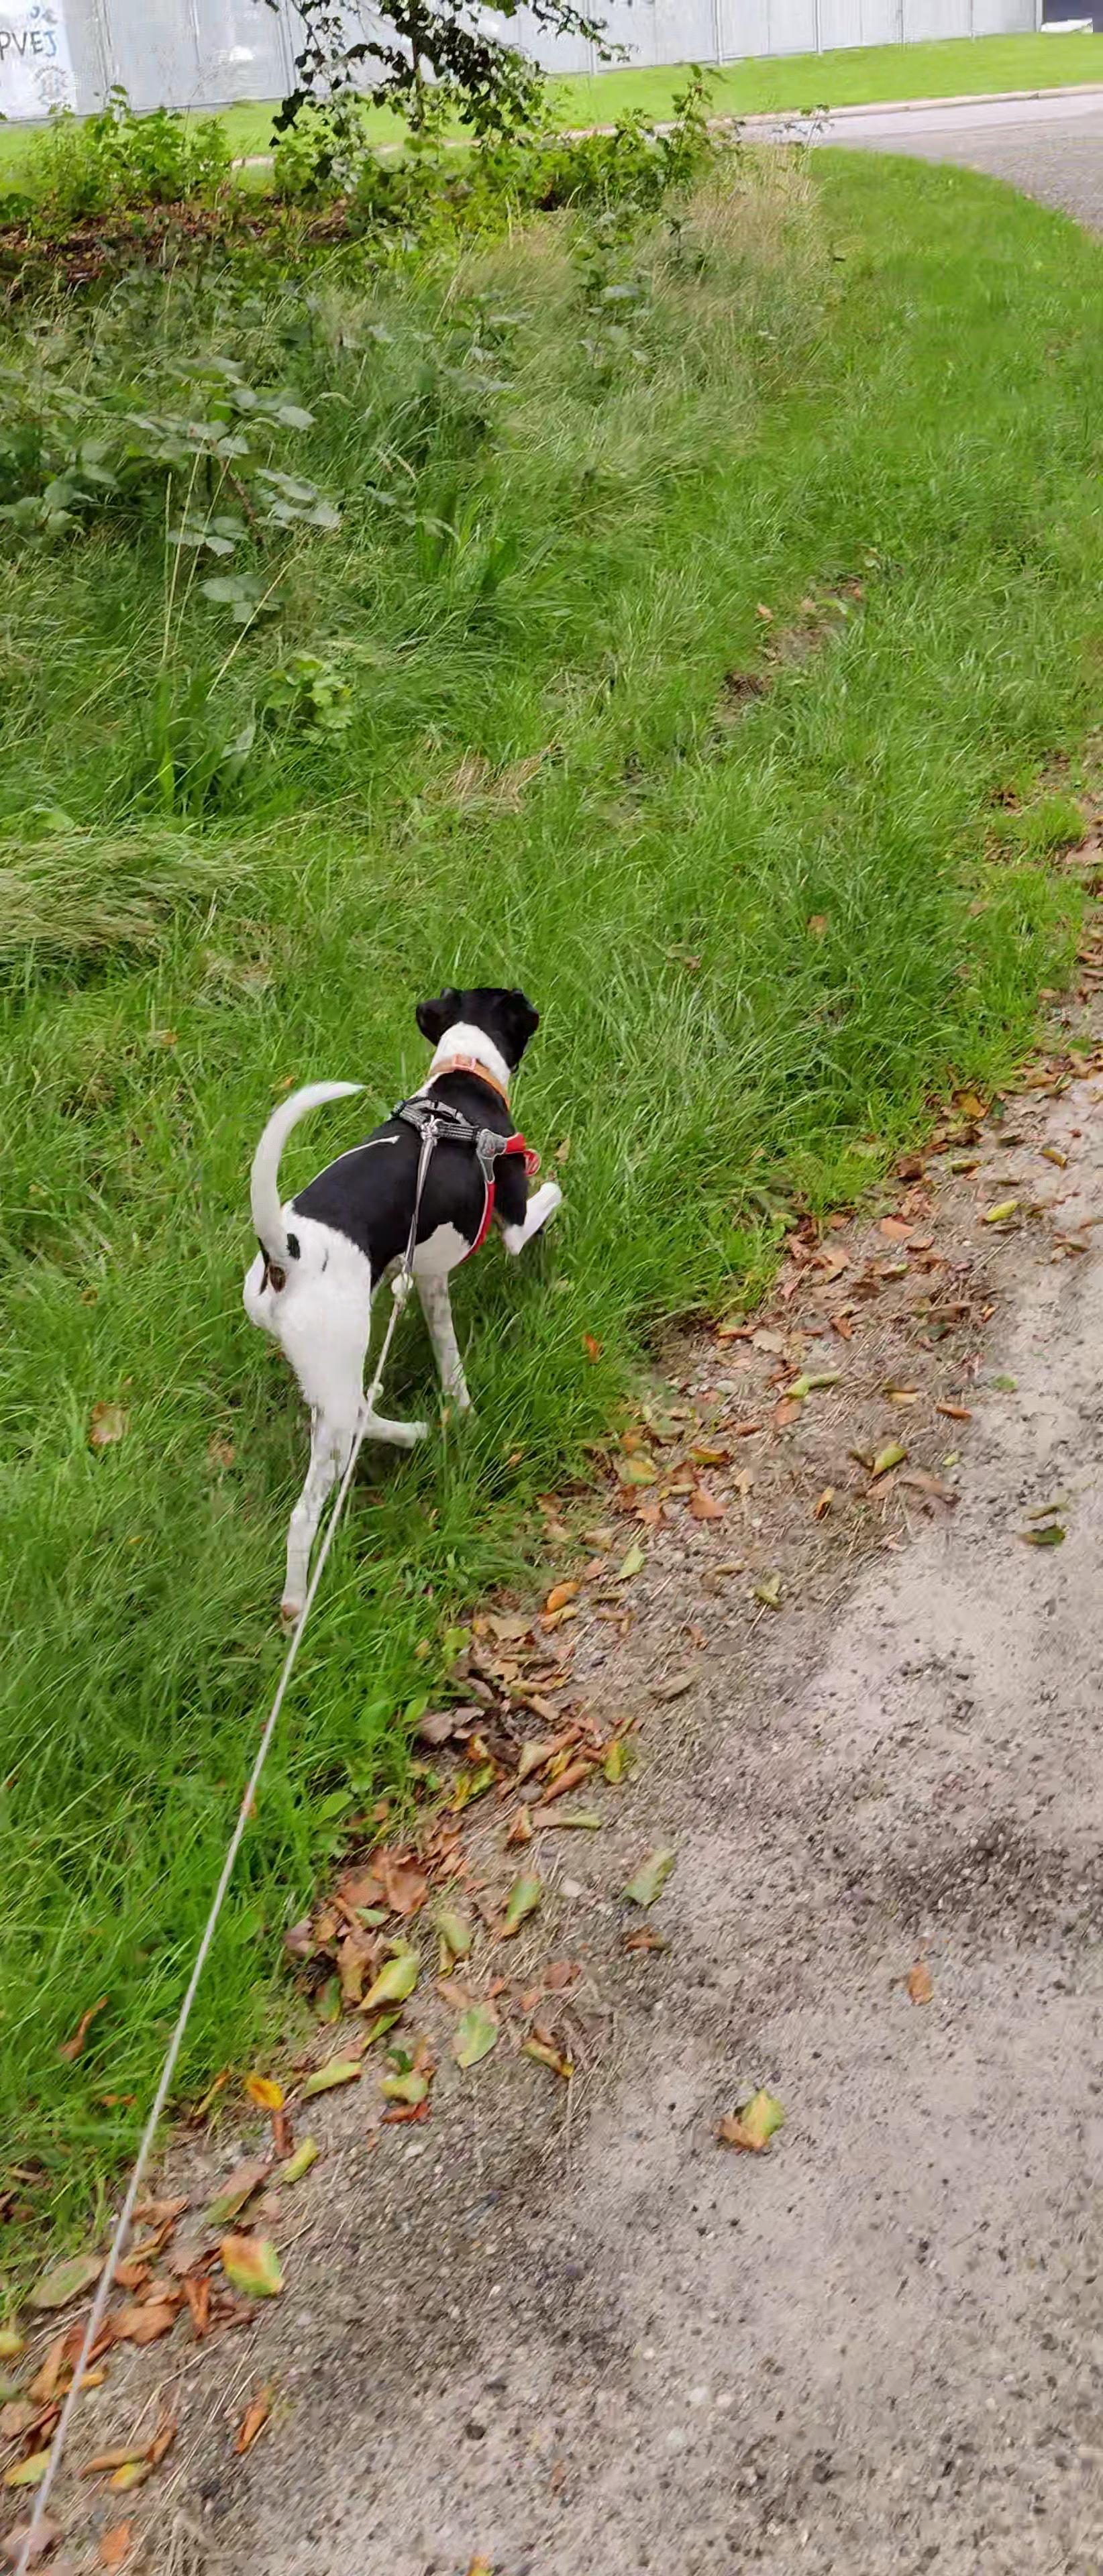Dog: (215, 981, 570, 1651)
